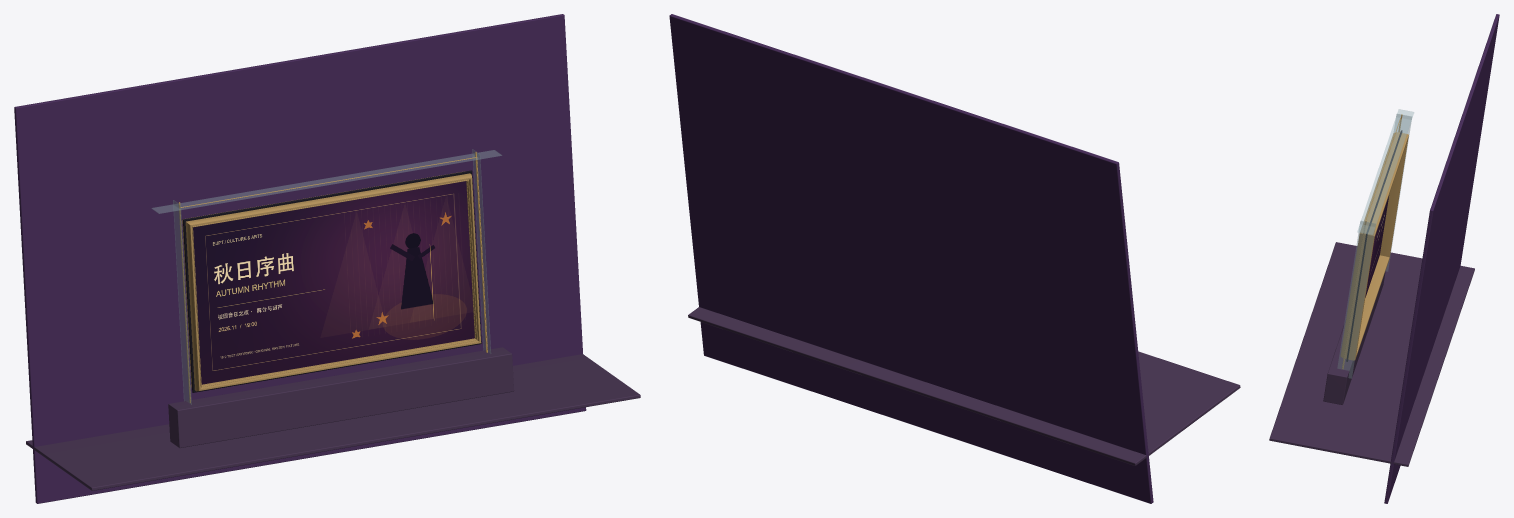
3 views of the same model, side by side, from view 1: azimuth 30°, elevation 25°; view 2: azimuth 150°, elevation 25°; view 3: azimuth 270°, elevation 25° (orthographic). The views are drawn at different scales.
Parts seen in each view (by area): view 1: Museum background, Original poster · original aspect, Museum floor, Museum podium, Hero frame · swept 13-step miter profile, Showcase canopy, Recessed black shadow reveal, Showcase side glazing.001, Showcase side glazing, Showcase upper/lower frame; view 2: Museum background, Museum floor; view 3: Museum floor, Museum background, Hero frame · swept 13-step miter profile, Showcase side glazing, Showcase canopy, Museum podium, Original poster · original aspect, Recessed black shadow reveal, Showcase side glazing.001, Showcase upper/lower frame.
Part boxes in pixels (<box>): Museum background: <box>14,14,586,503</box>; Original poster · original aspect: <box>193,181,474,384</box>; Museum floor: <box>26,354,640,490</box>; Museum podium: <box>168,347,514,448</box>; Hero frame · swept 13-step miter profile: <box>182,171,481,391</box>; Showcase canopy: <box>152,150,501,213</box>; Recessed black shadow reveal: <box>182,170,481,392</box>; Showcase side glazing.001: <box>173,200,191,404</box>; Showcase side glazing: <box>472,149,490,353</box>; Showcase upper/lower frame: <box>179,157,487,402</box>; Museum background: <box>669,14,1153,503</box>; Museum floor: <box>688,307,1240,465</box>; Museum floor: <box>1269,242,1474,466</box>; Museum background: <box>1384,14,1499,503</box>; Hero frame · swept 13-step miter profile: <box>1340,132,1408,360</box>; Showcase side glazing: <box>1337,221,1375,378</box>; Showcase canopy: <box>1357,109,1413,234</box>; Museum podium: <box>1323,271,1385,404</box>; Original poster · original aspect: <box>1365,195,1389,297</box>; Recessed black shadow reveal: <box>1346,130,1402,361</box>; Showcase side glazing.001: <box>1386,114,1411,271</box>; Showcase upper/lower frame: <box>1342,118,1400,368</box>.
Bounding box in the file's own units: 20.62 × 13.82 × 9.73.
Materials: 8 (1 with a texture image).
